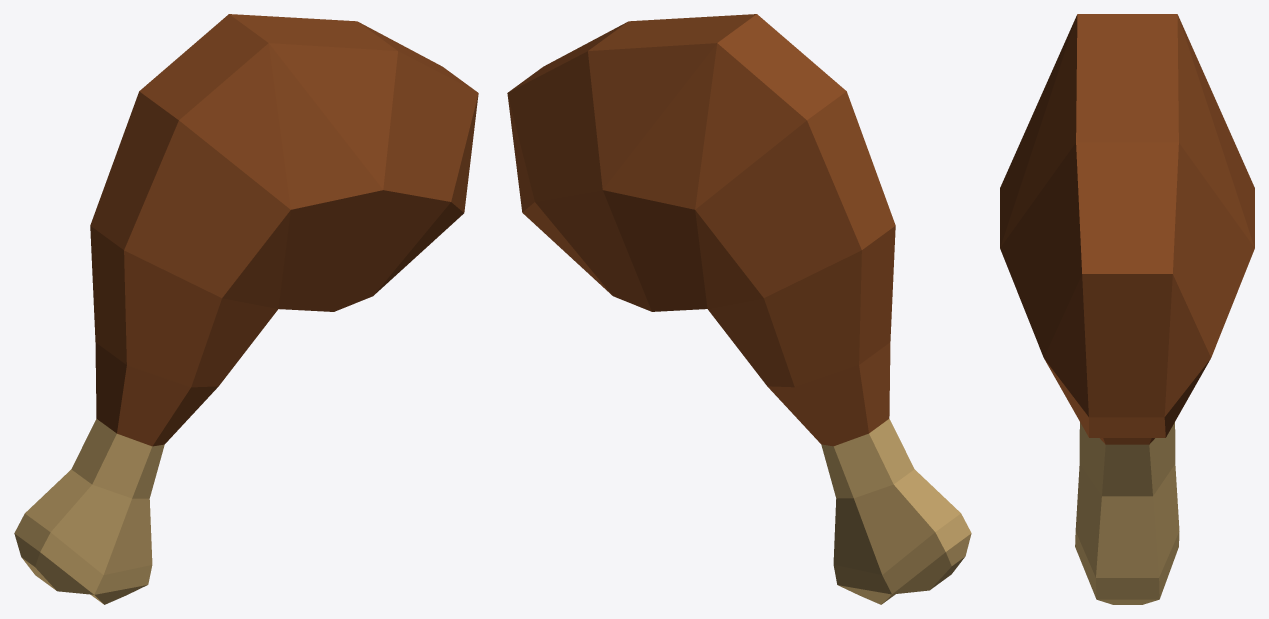
The model's file is meat.fbx.
3 views of the same model, side by side, from view 1: azimuth 30°, elevation 25°; view 2: azimuth 150°, elevation 25°; view 3: azimuth 270°, elevation 25° (orthographic). The views are drawn at different scales.
Visible parts, largest first — view 1: Meat; view 2: Meat; view 3: Meat.
Boxes of the visible parts, x1,y1,x2,y2 form: Meat: (14, 14, 478, 604); Meat: (507, 14, 971, 604); Meat: (1000, 14, 1254, 604).
Bounding box in the file's own units: 8.72 × 10.23 × 3.52.
1 material, 1 textured.
